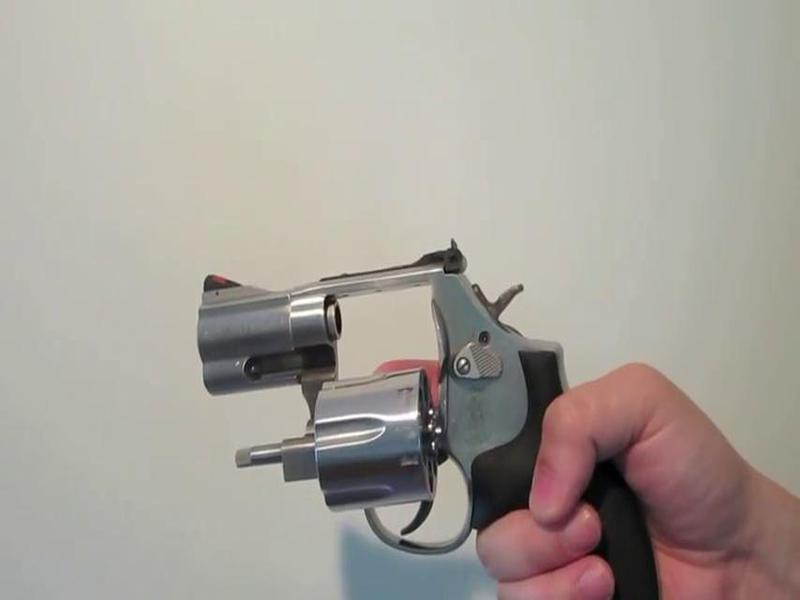Revolver: (187, 227, 660, 600)
